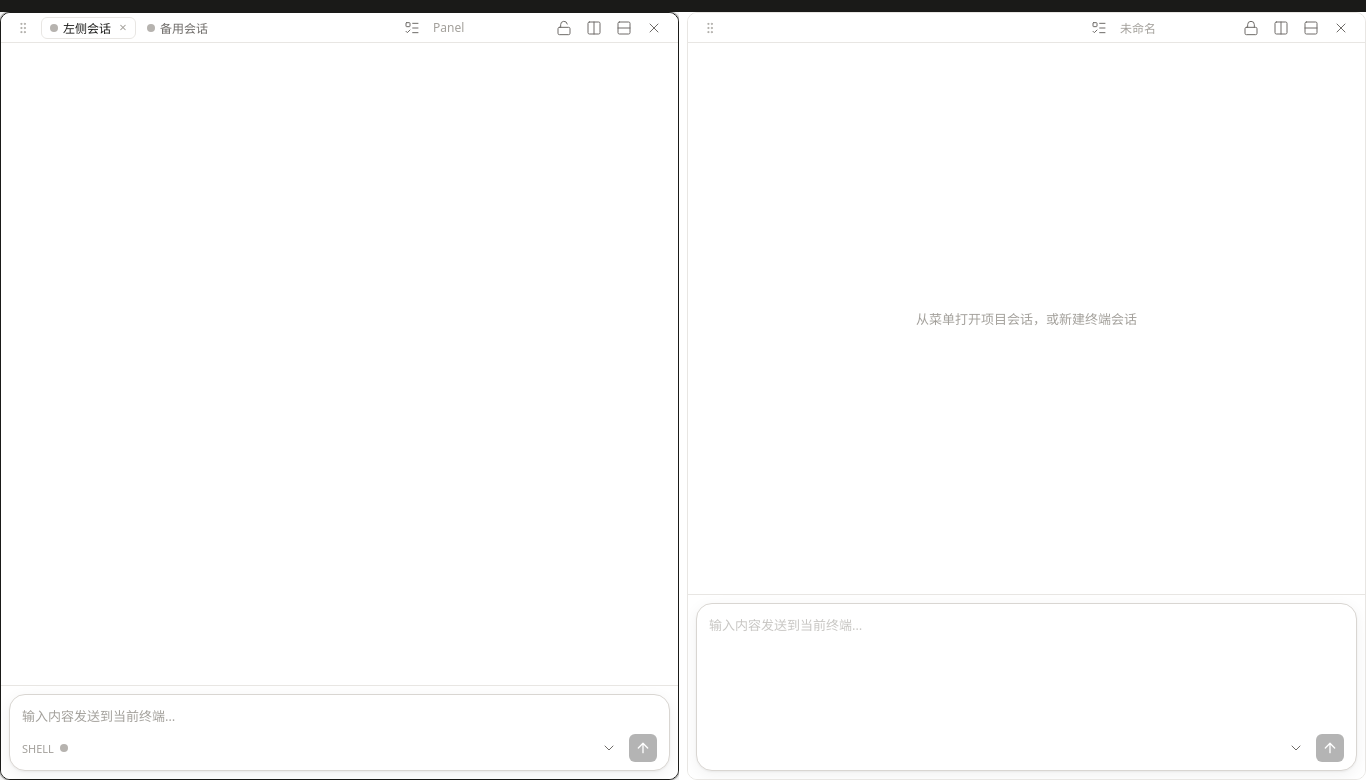
Test case: PaneGrid 窗格名称 › 双击名称后按 Enter 保存新名称
Double-click the button "Panel" at (488, 28), box [428,16,548,38]
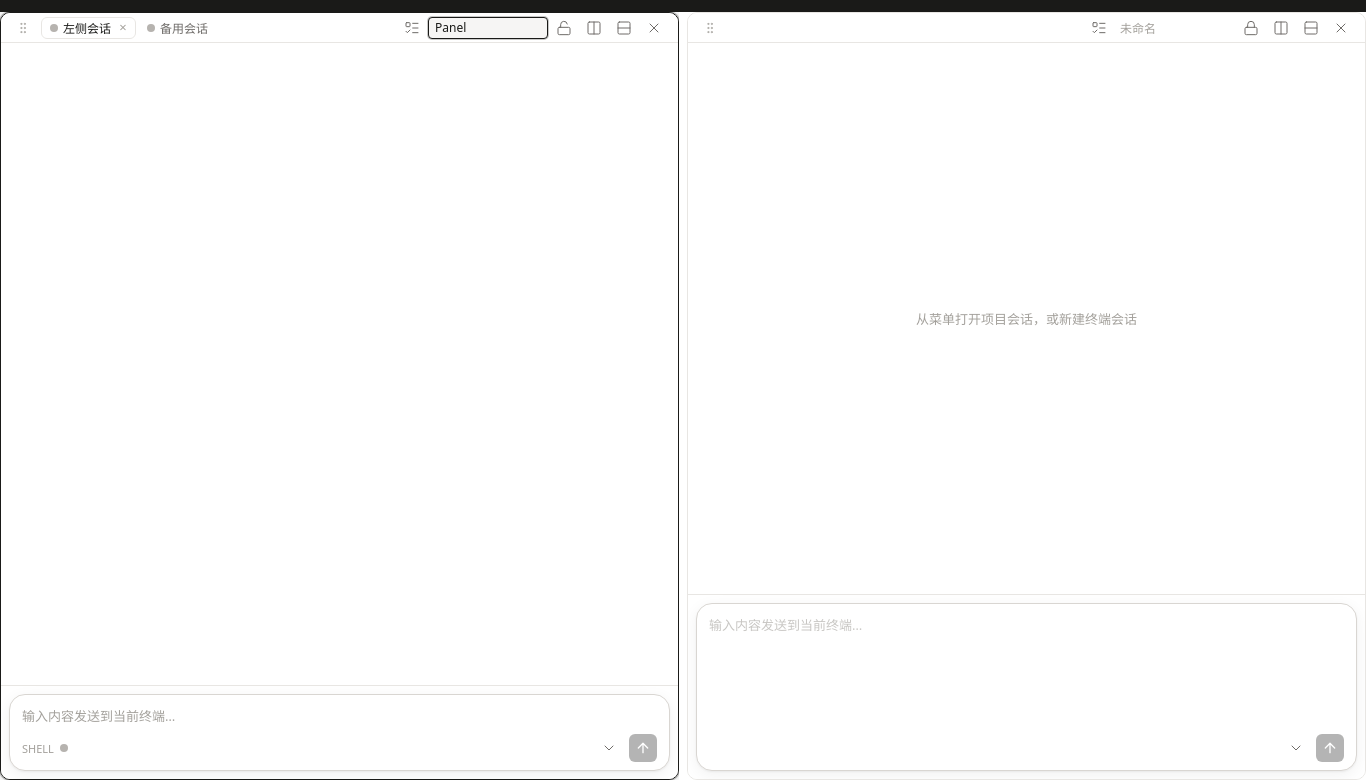
Replace the text in the field named "窗格名称" with "server" at (488, 28), box [428,16,548,38]
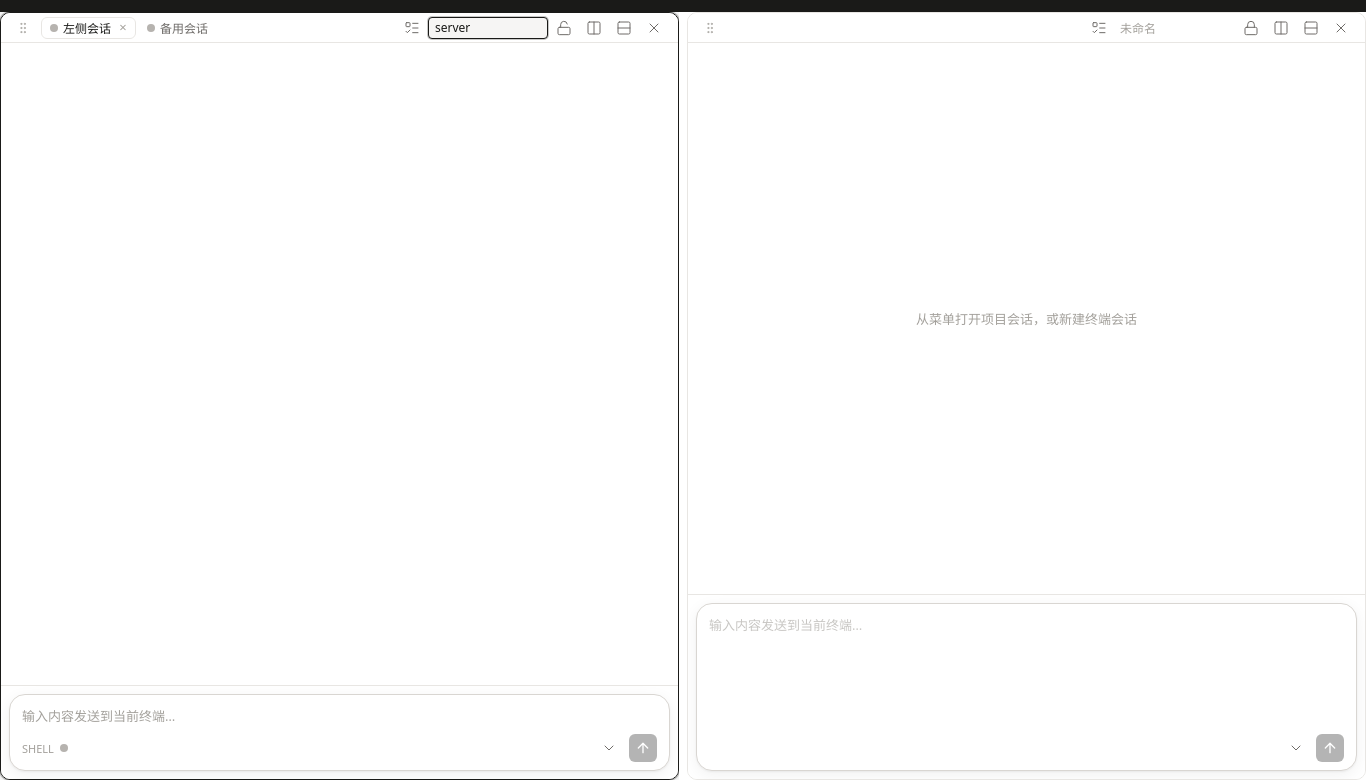
Press Enter in the field named "窗格名称", box [428,16,548,38]
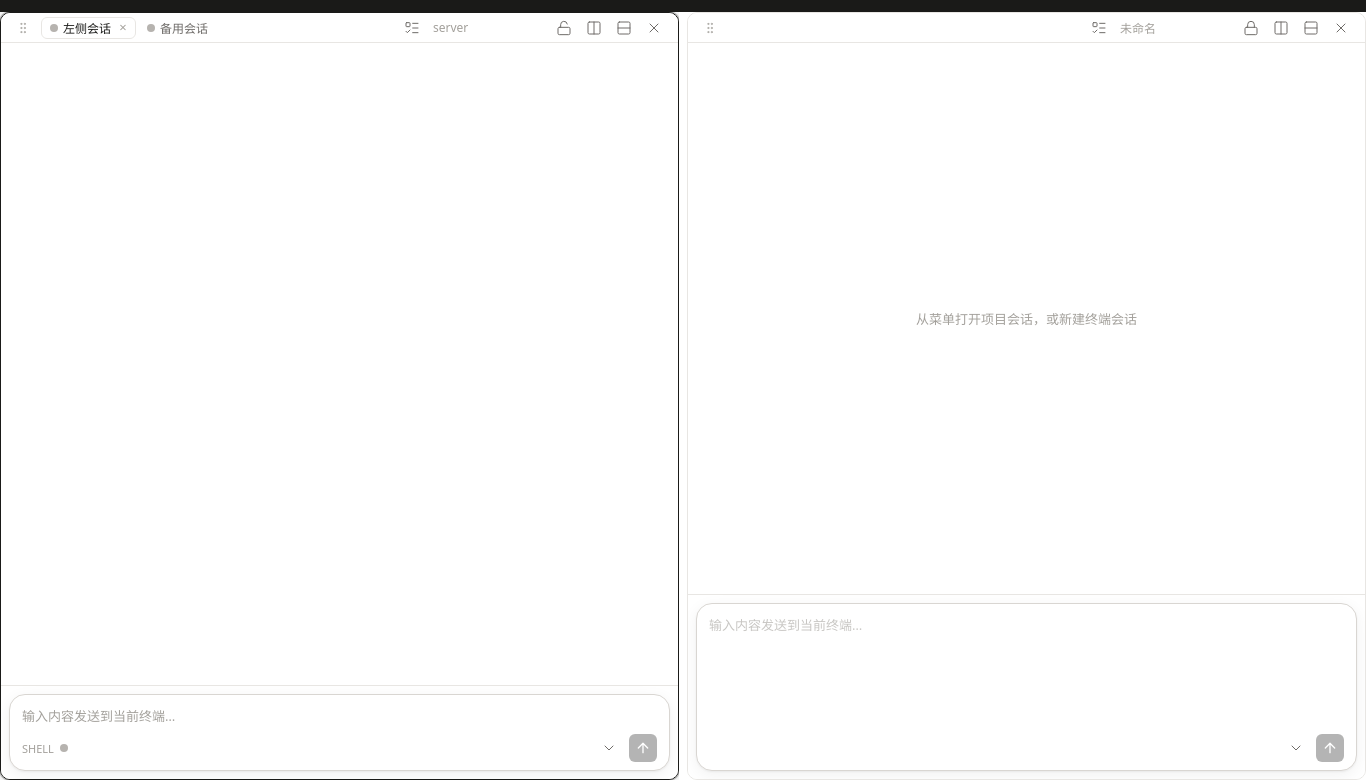
Now the button "server" is shown, box [428,16,548,38]
Now the field labelled "窗格名称" is gone
